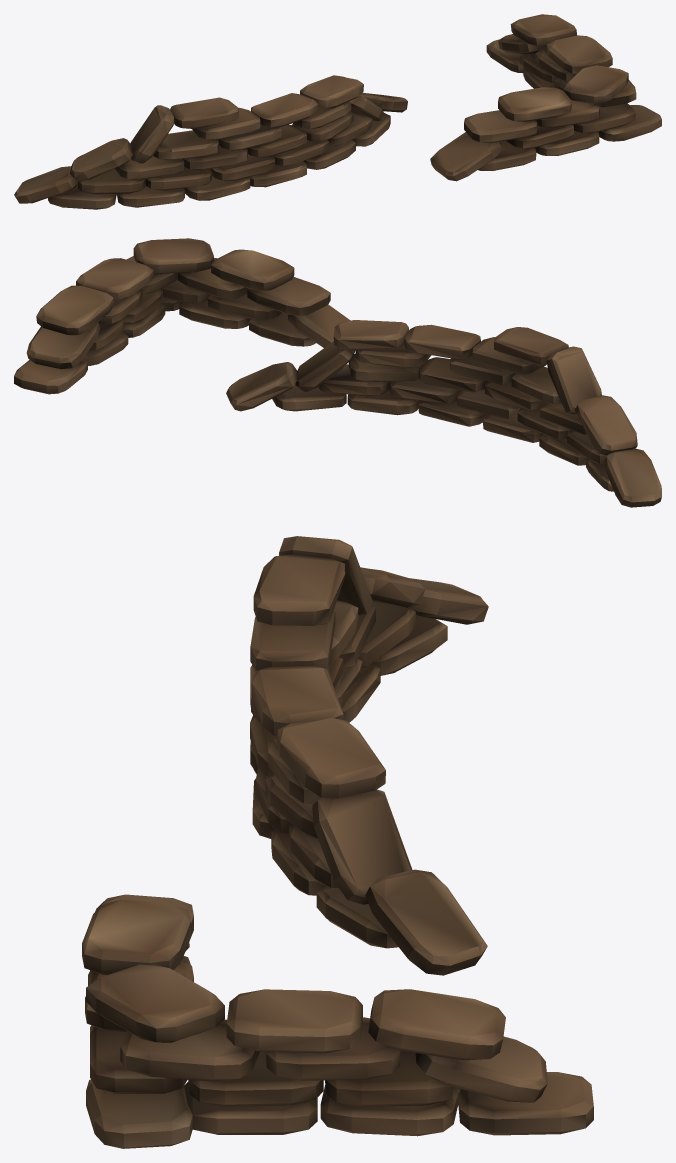
Rendered from DefSandbag.glb.
The picture shows the model from 3 angles, top to bottom: view 1: azimuth 30°, elevation 25°; view 2: azimuth 150°, elevation 25°; view 3: azimuth 270°, elevation 25°; orthographic projection. The views are drawn at different scales.
Visible parts, largest first — view 1: sandbags 1_sandbags 1_0, sandbags 2_sandbags 2_0; view 2: sandbags 1_sandbags 1_0, sandbags 2_sandbags 2_0; view 3: sandbags 2_sandbags 2_0, sandbags 1_sandbags 1_0.
Part boxes in pixels (bbox=[...]): sandbags 1_sandbags 1_0: bbox=[14, 75, 407, 209]; sandbags 2_sandbags 2_0: bbox=[430, 14, 661, 181]; sandbags 1_sandbags 1_0: bbox=[226, 320, 661, 507]; sandbags 2_sandbags 2_0: bbox=[14, 238, 350, 394]; sandbags 2_sandbags 2_0: bbox=[82, 894, 593, 1148]; sandbags 1_sandbags 1_0: bbox=[250, 536, 488, 975].
Size of the model in its own units: 6.43 by 0.9922 by 2.52.
